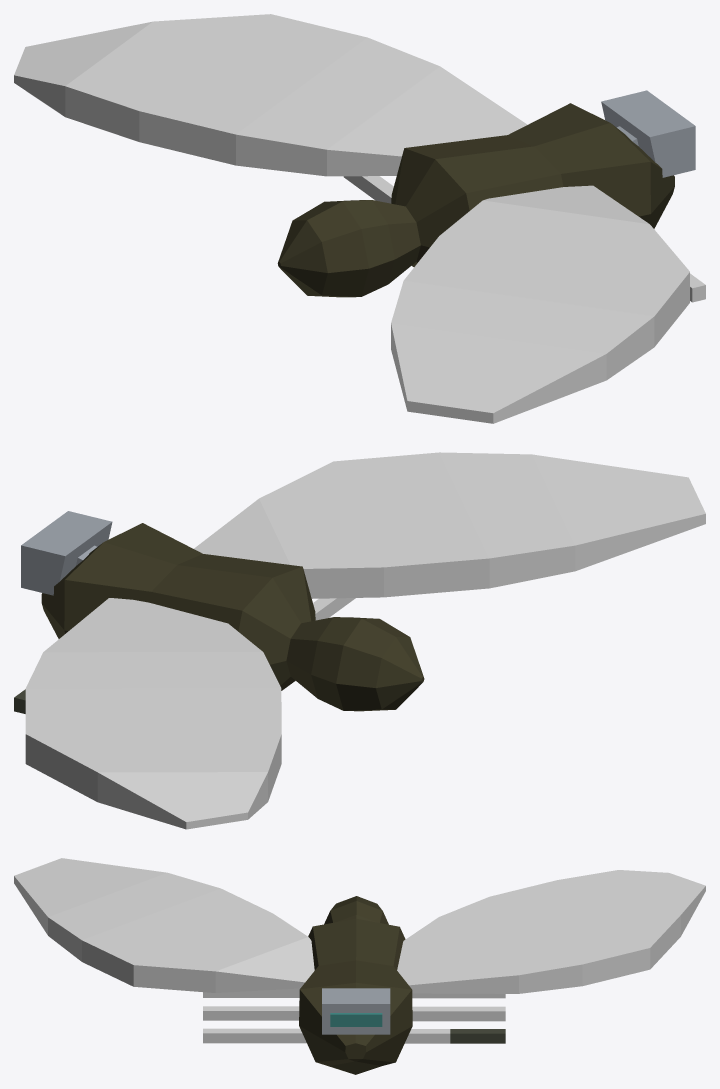
The model's file is bug.glb.
3 renders of one model, top to bottom at view 1: azimuth 30°, elevation 25°; view 2: azimuth 150°, elevation 25°; view 3: azimuth 270°, elevation 25°, orthographic. The views are drawn at different scales.
Visible parts, largest first — view 1: LWing, RWing, Thorax, Head, LBL2; view 2: RWing, LWing, Thorax, Head; view 3: RWing, LWing, Thorax, Head, LML2, RFL2, LFL2, RML2, RFL1, LFL1, RML1, LML1 (+1 smaller).
Part boxes in pixels (left/top/right/bottom): LWing: left=14, top=14, right=527, bottom=176; RWing: left=391, top=185, right=689, bottom=423; Thorax: left=277, top=103, right=674, bottom=297; Head: left=601, top=90, right=695, bottom=177; LBL2: left=343, top=176, right=393, bottom=201; RWing: left=194, top=452, right=705, bottom=598; LWing: left=25, top=598, right=281, bottom=829; Thorax: left=41, top=523, right=424, bottom=711; Head: left=21, top=511, right=112, bottom=595; RWing: left=14, top=858, right=314, bottom=992; LWing: left=397, top=870, right=705, bottom=993; Thorax: left=299, top=896, right=412, bottom=1074; Head: left=322, top=988, right=390, bottom=1034; LML2: left=450, top=1006, right=505, bottom=1021; RFL2: left=203, top=1028, right=258, bottom=1043; LFL2: left=450, top=1029, right=505, bottom=1043; RML2: left=203, top=1006, right=258, bottom=1020; RFL1: left=258, top=1028, right=306, bottom=1043; LFL1: left=405, top=1029, right=450, bottom=1043; RML1: left=258, top=1006, right=299, bottom=1020; LML1: left=412, top=1006, right=450, bottom=1021.
Size of the model in its own units: 5.92 by 1.58 by 10.57.
1 material, 1 textured.
